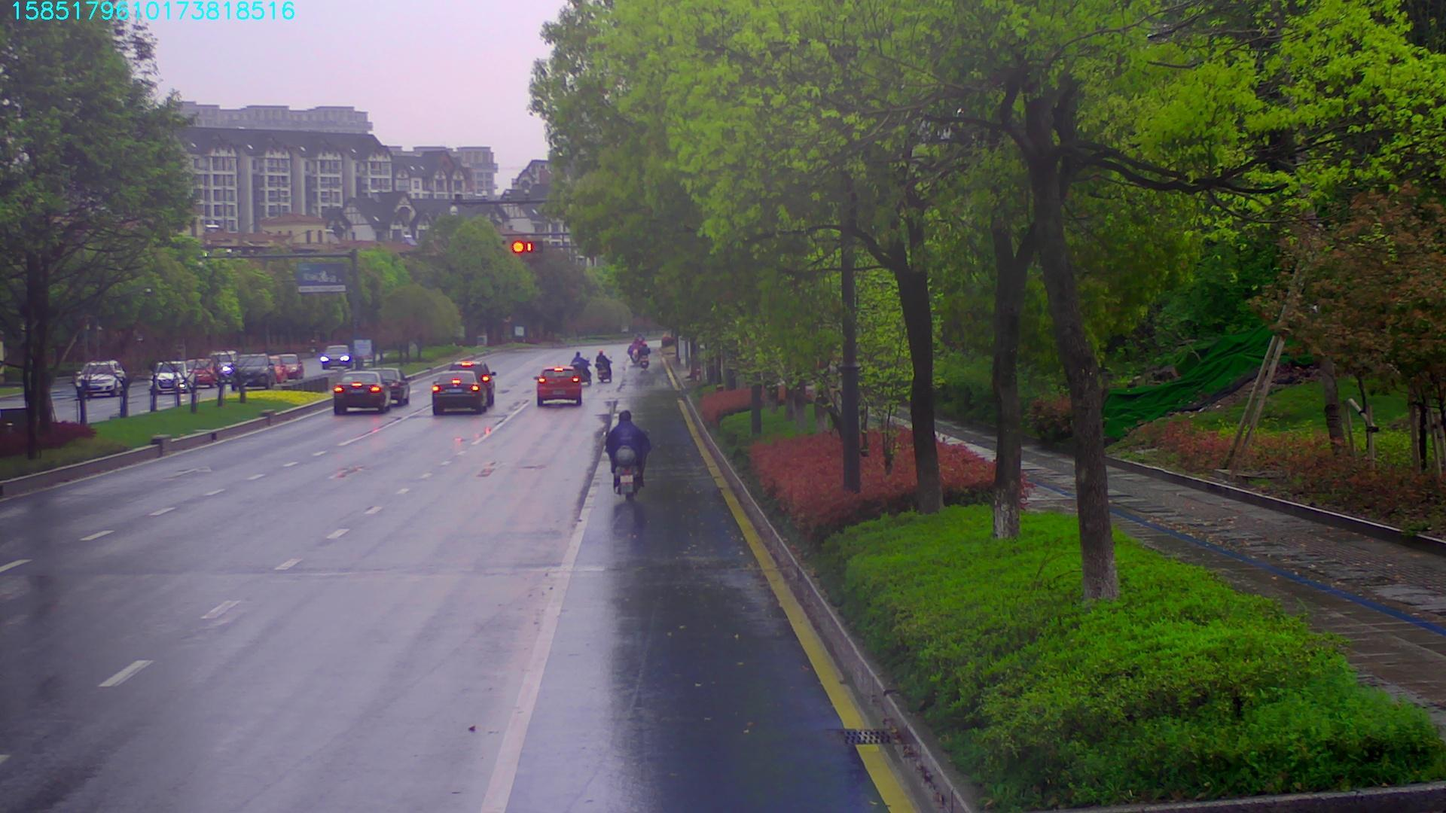red: (511, 237, 542, 253)
